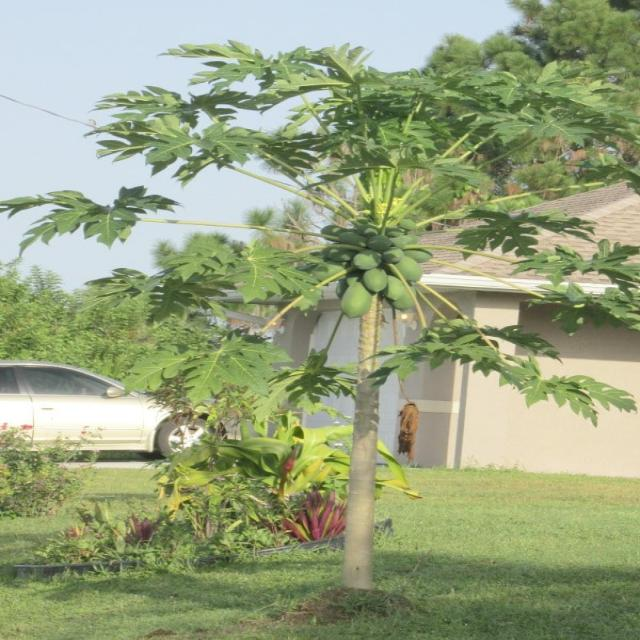Papaya-Tree: (7, 35, 638, 561)
